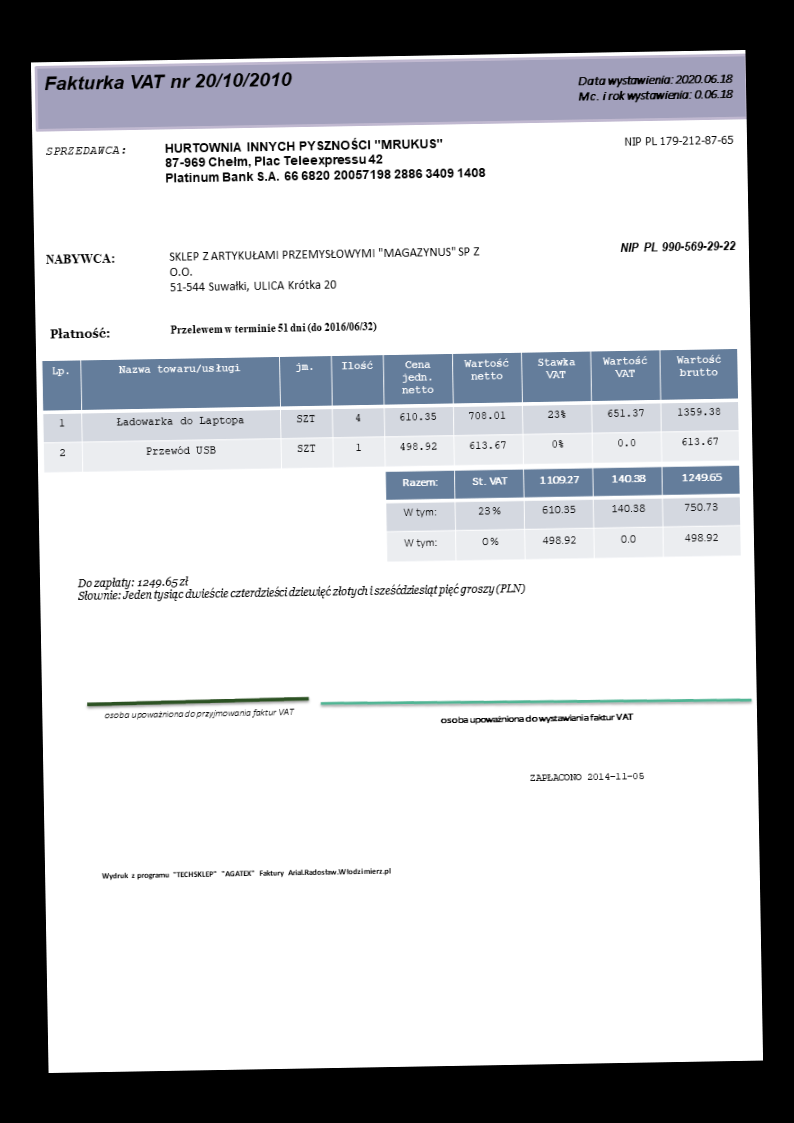Table: (40, 346, 740, 475), (384, 463, 742, 563)
TextBox: (162, 133, 488, 188), (74, 567, 528, 605), (168, 244, 480, 295), (41, 69, 294, 95), (574, 70, 739, 103), (99, 864, 395, 882), (168, 318, 378, 337), (102, 705, 296, 723), (437, 710, 635, 727), (618, 236, 736, 256), (620, 130, 734, 149), (528, 769, 646, 784), (41, 142, 128, 158), (43, 250, 116, 267), (49, 324, 111, 341)
